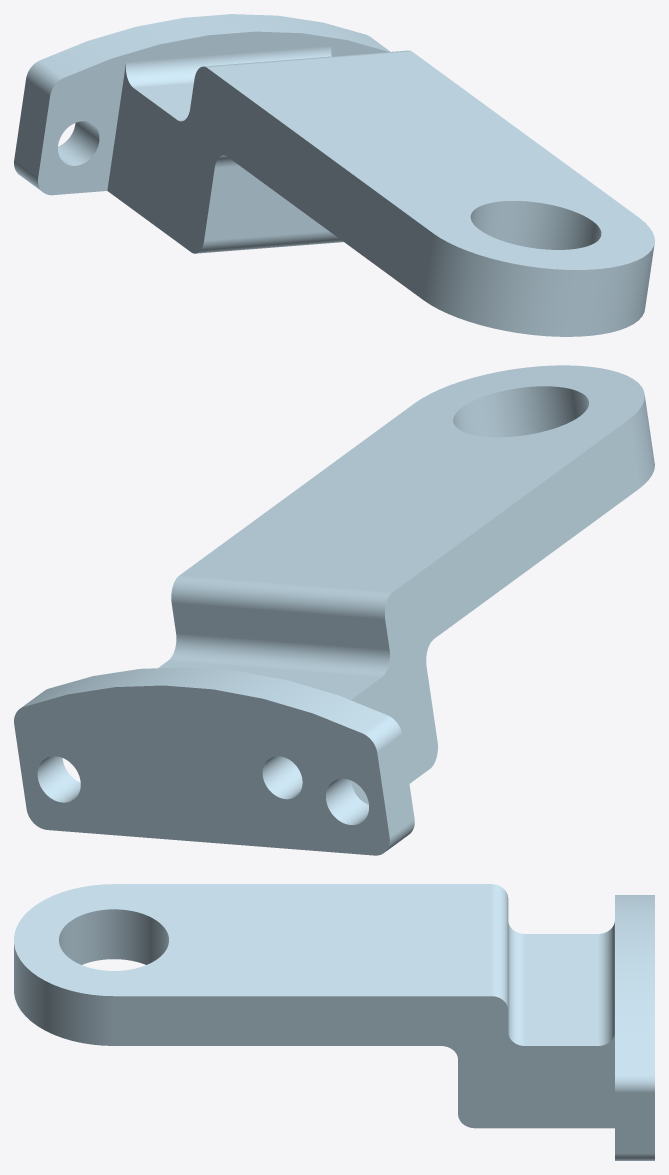
Rendered from Robot_Master Copy 1 - Part 1 (55).gltf.
3 views of the same model, one above another, from view 1: azimuth 30°, elevation 25°; view 2: azimuth 150°, elevation 25°; view 3: azimuth 270°, elevation 25° (orthographic). The views are drawn at different scales.
Parts seen in each view (by area): view 1: Part 1; view 2: Part 1; view 3: Part 1.
Boxes of the visible parts, <box> form: Part 1: <box>14,14,654,336</box>; Part 1: <box>14,365,654,855</box>; Part 1: <box>14,884,654,1160</box>.
Bounding box in the file's own units: 0.0348 × 0.0197 × 0.064.
